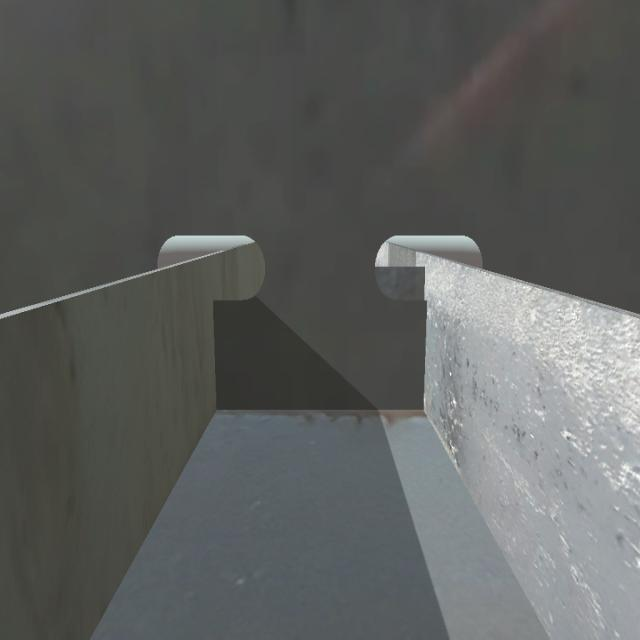fillet_yong_jeop_jang: (217, 394, 427, 422)
longi_yong_jeop_jang: (210, 301, 228, 405), (373, 268, 428, 302), (421, 264, 433, 408)
